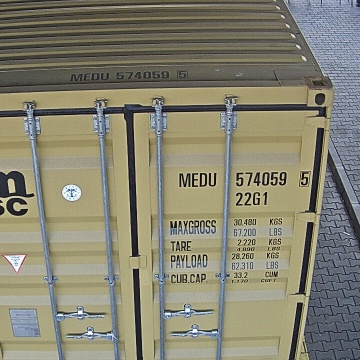serial_id: (178, 171, 309, 187)
